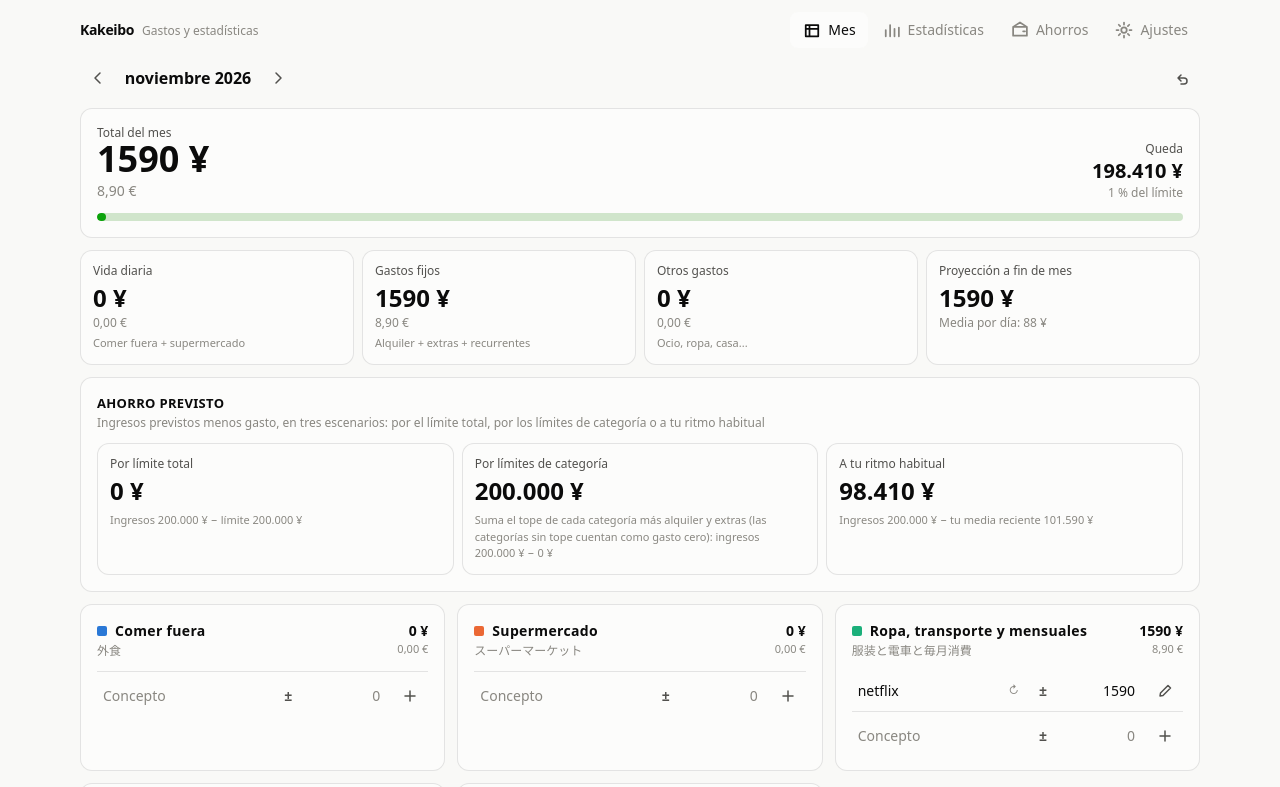
la aplicacion › con una meta puesta, la prevision dice lo que falta y si se llega a tiempo
Step 1. Click the button "Ahorros" → (1049, 30), box top-left (998, 12), bottom-right (1100, 48)
(page scrolled)
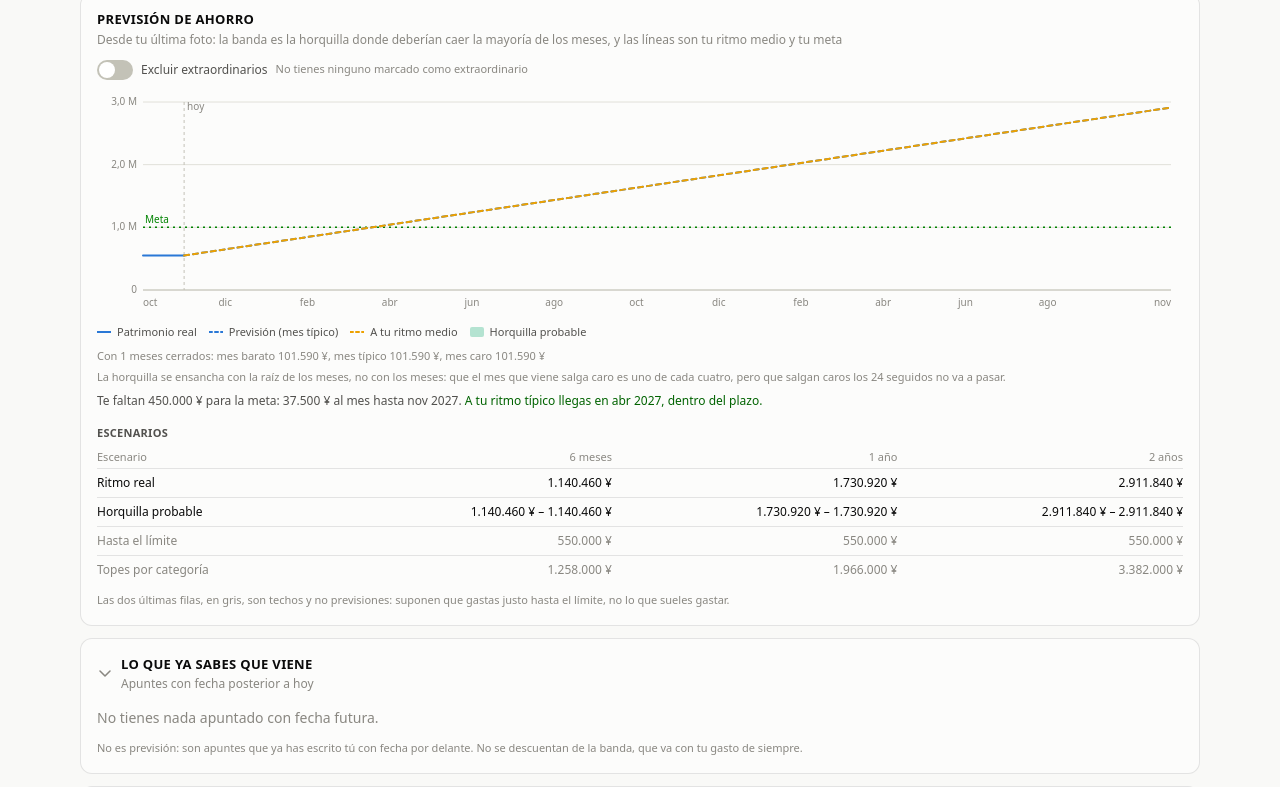
Now the text "Te faltan" is shown, box top-left (97, 392), bottom-right (462, 409)
Now the text "A tu ritmo típico llegas en abr 2027, dentro del plazo." is shown, box top-left (465, 392), bottom-right (762, 409)
